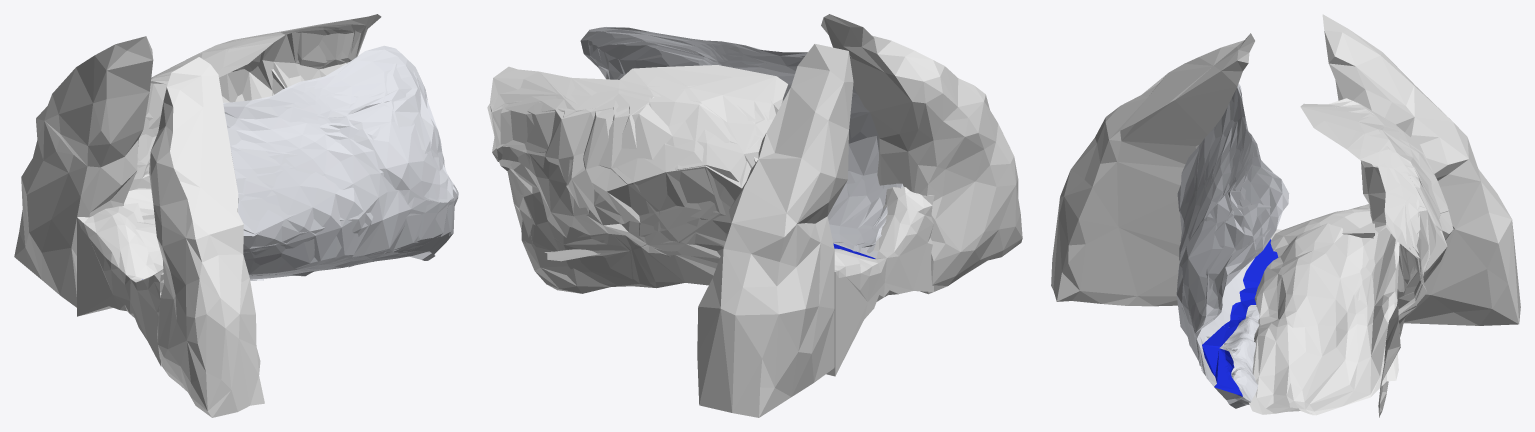
The model's file is cave2.fbx.
3 renders of one model, left to right at view 1: azimuth 30°, elevation 25°; view 2: azimuth 150°, elevation 25°; view 3: azimuth 270°, elevation 25°, orthographic. The views are drawn at different scales.
Visible parts, largest first — view 1: Wall1.001, Zange, Zange.001, Wall1, Cube, Floor; view 2: Wall1, Zange.001, Zange, Wall1.001, Cube; view 3: Zange, Floor, Wall1.001, Zange.001, Wall1, Cube.
Boxes of the visible parts, box(x1,y1,x2,y2) form: Wall1.001: box(142, 45, 458, 280); Zange: box(149, 57, 264, 417); Zange.001: box(14, 36, 153, 307); Wall1: box(129, 14, 381, 190); Cube: box(77, 203, 163, 366); Floor: box(99, 188, 163, 271); Wall1: box(487, 65, 787, 293); Zange.001: box(697, 44, 853, 417); Zange: box(821, 14, 1022, 294); Wall1.001: box(580, 27, 903, 258); Cube: box(826, 186, 934, 376); Zange: box(1051, 33, 1254, 306); Floor: box(1249, 209, 1399, 415); Wall1.001: box(1176, 83, 1289, 408); Zange.001: box(1322, 14, 1520, 325); Wall1: box(1300, 98, 1453, 417); Cube: box(1270, 204, 1374, 256).
Size of the model in its own units: 4783 by 3801 by 5462.
